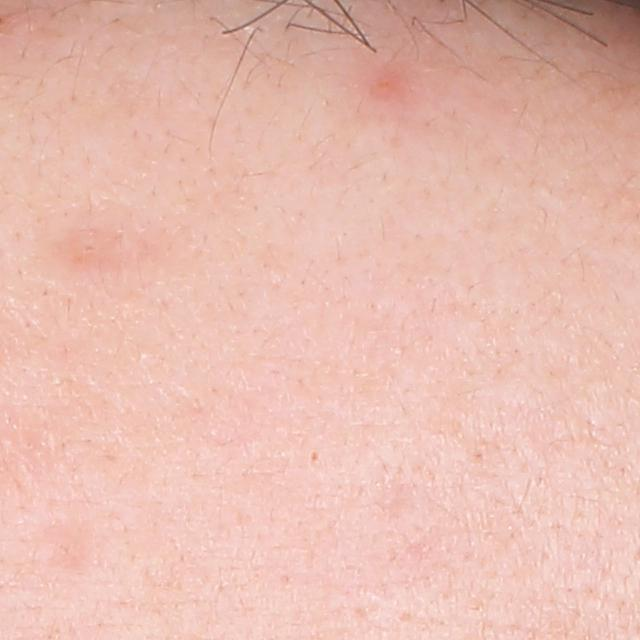comedo: (59, 231, 120, 269), (305, 445, 324, 466)
papule: (371, 72, 407, 108)
